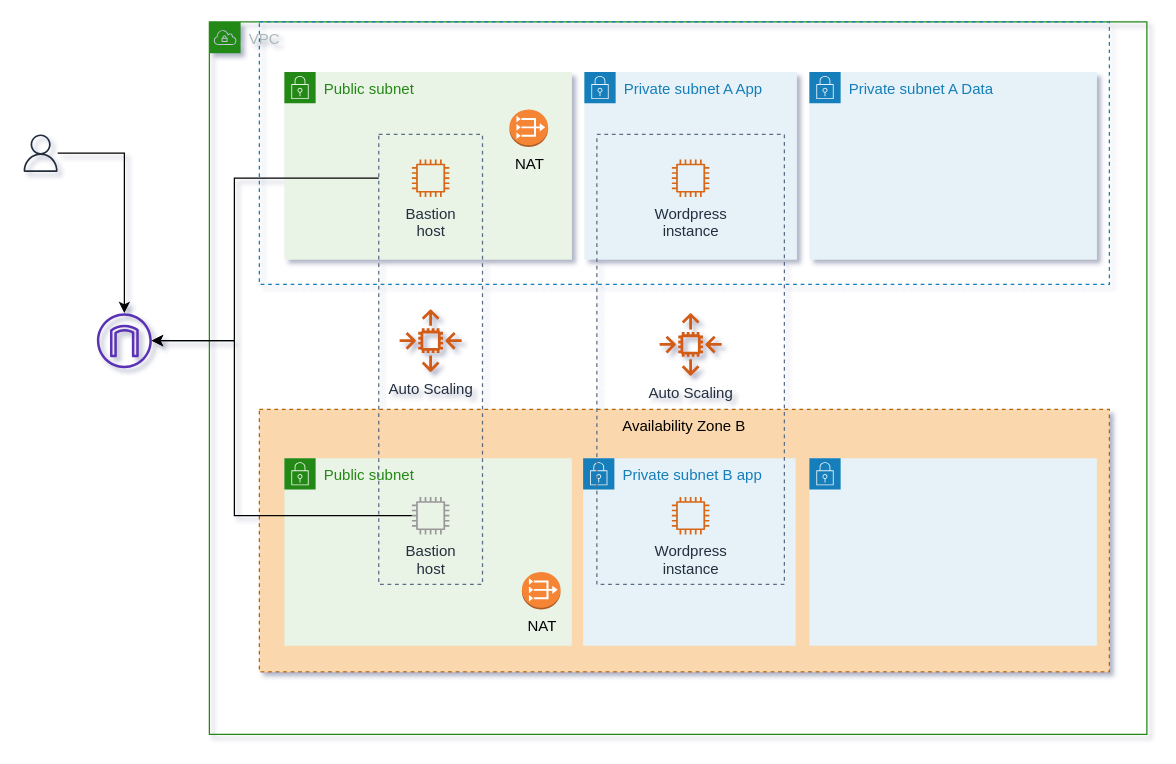
This 1176x764 diagram has some shape labels left out. Here are the shapes that lost their labels. From the top down, the box of each, then its label:
(258, 21, 1109, 284): Availability Zone A
(96, 312, 151, 368): Internet gateway
(808, 457, 1097, 646): Private subnet B data
